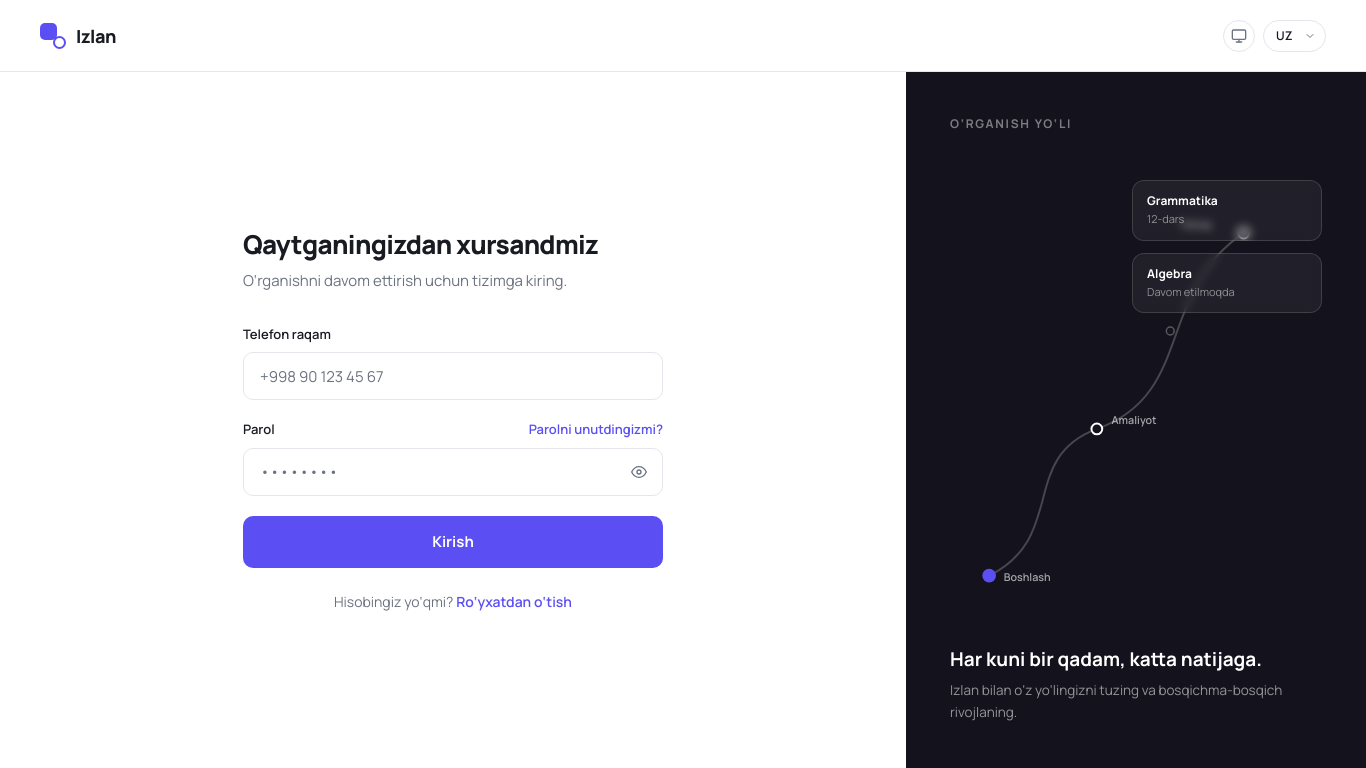
Scenario: Learner login (WEB-AUTH) › WEB-AUTH-04 an unknown ApiError uses a generic friendly message (no code shown)
The width and height of the screenshot is (1366, 768).
Step 1. Type "+998900000003" into the field labelled "Telefon raqam" → (453, 376), box [243,352,663,400]
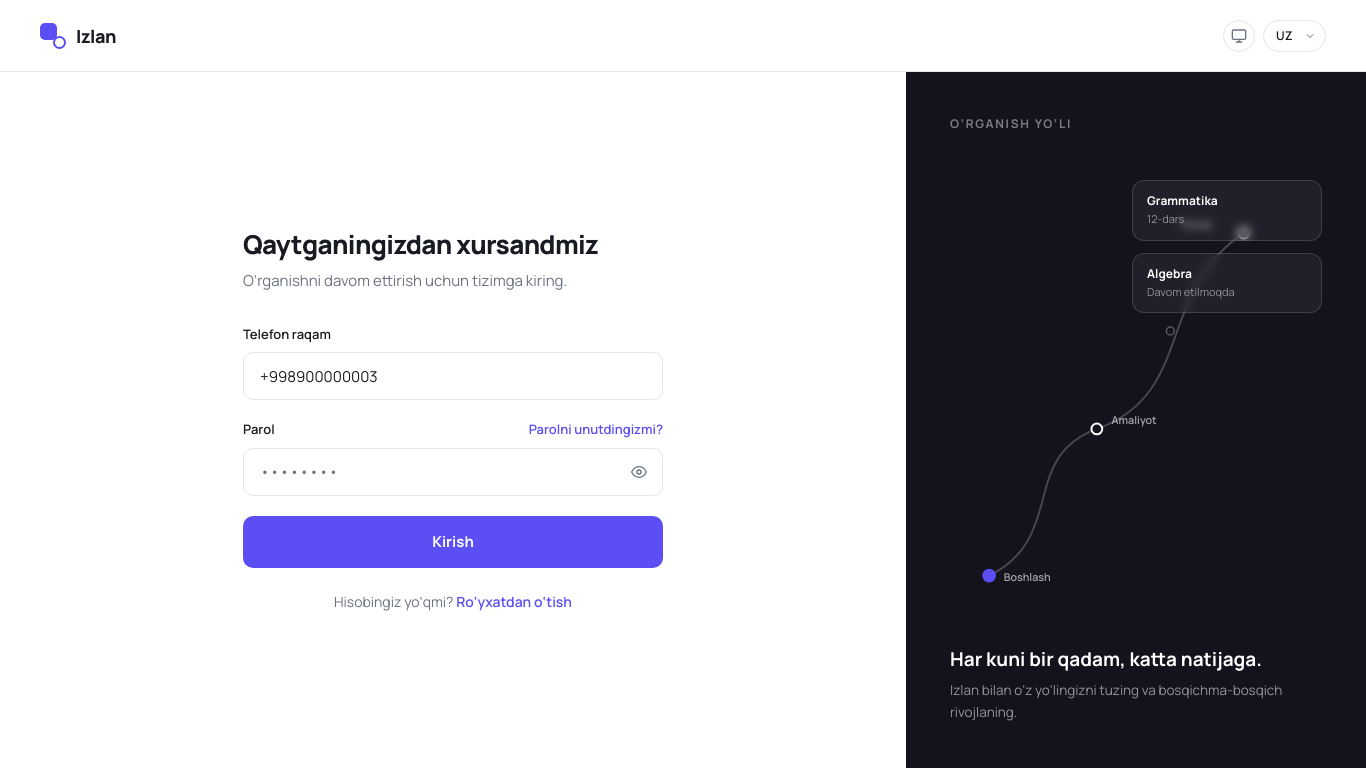
Step 2. Type "Passw0rd!123" into the password field labelled "Parol" → (453, 472), box [243,448,663,496]
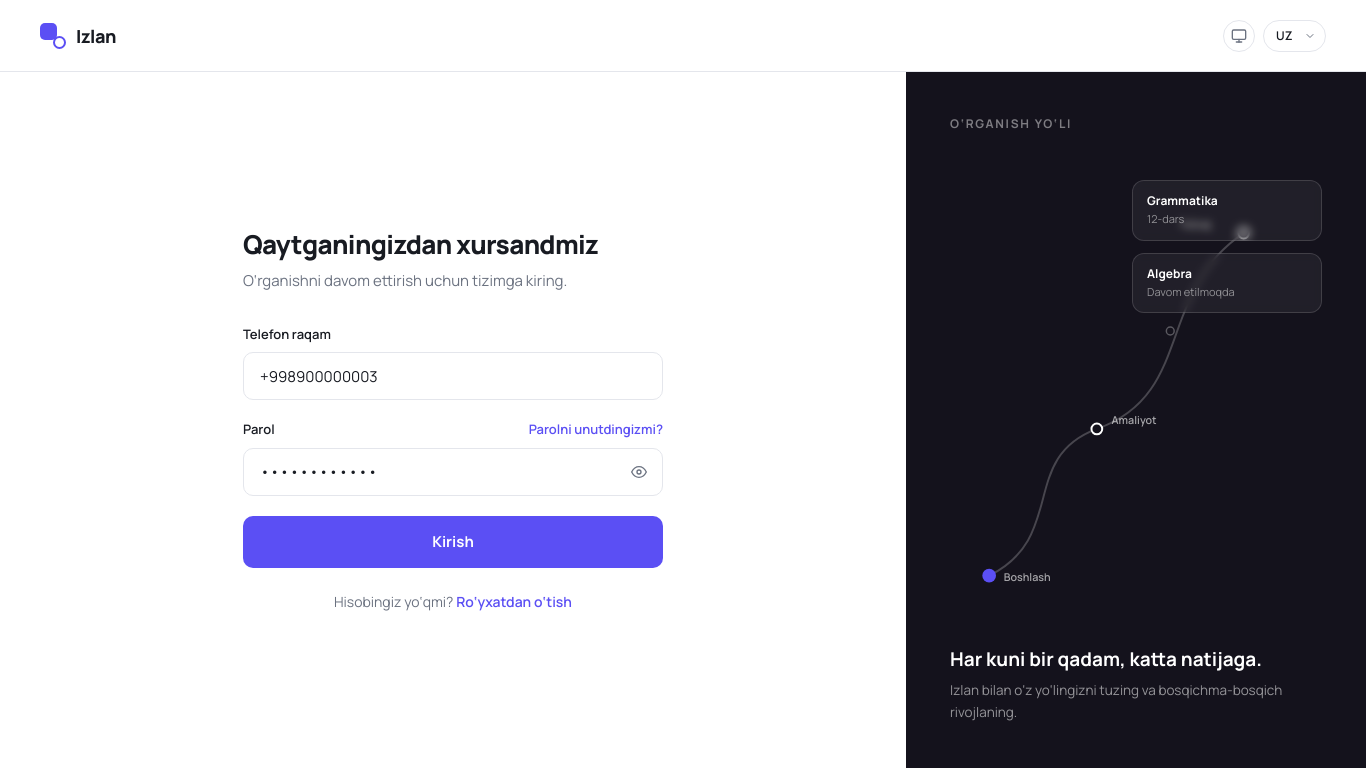
Step 3. Click the button "Kirish" → (453, 542), box [243,516,663,568]
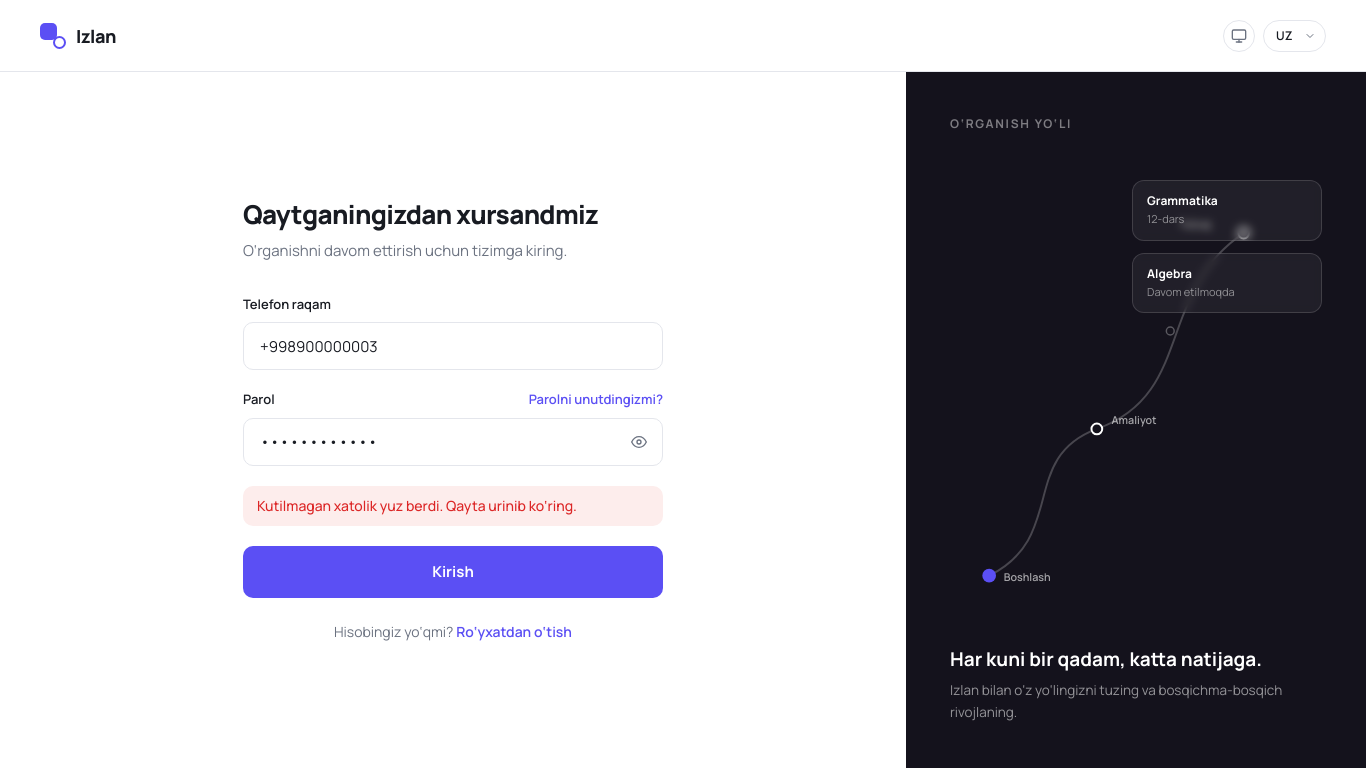
Expected: the message reads "Kutilmagan xatolik yuz berdi. Qayta urinib ko‘ring.", [257,496,577,515]
